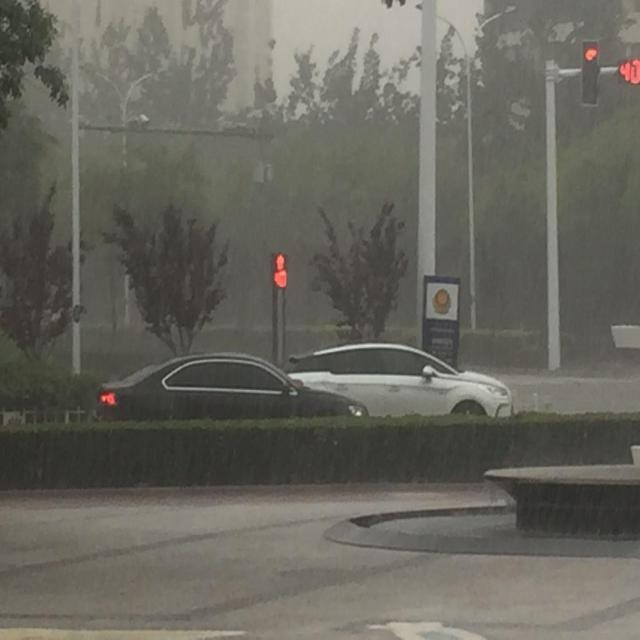car: (98, 352, 368, 422), (286, 344, 514, 417)
